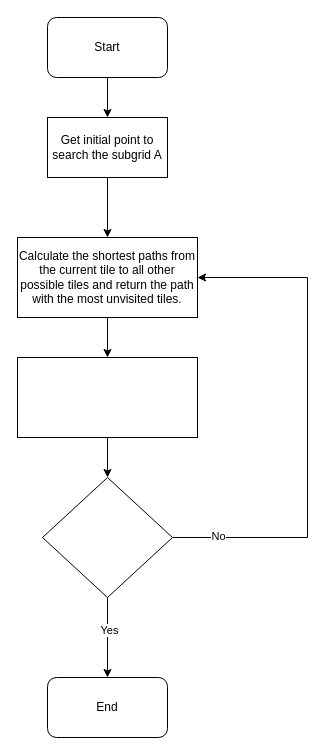
The diagram is 333 pixels wide and 755 high, and some of its shapes have lost their labels. The box of each missing label's shape, as (x1, y1, x2, y2) in pixels:
Are all nodes visited?: (42, 476, 172, 598)
Move on the path and mark tiles on the path as visited: (16, 356, 198, 438)
